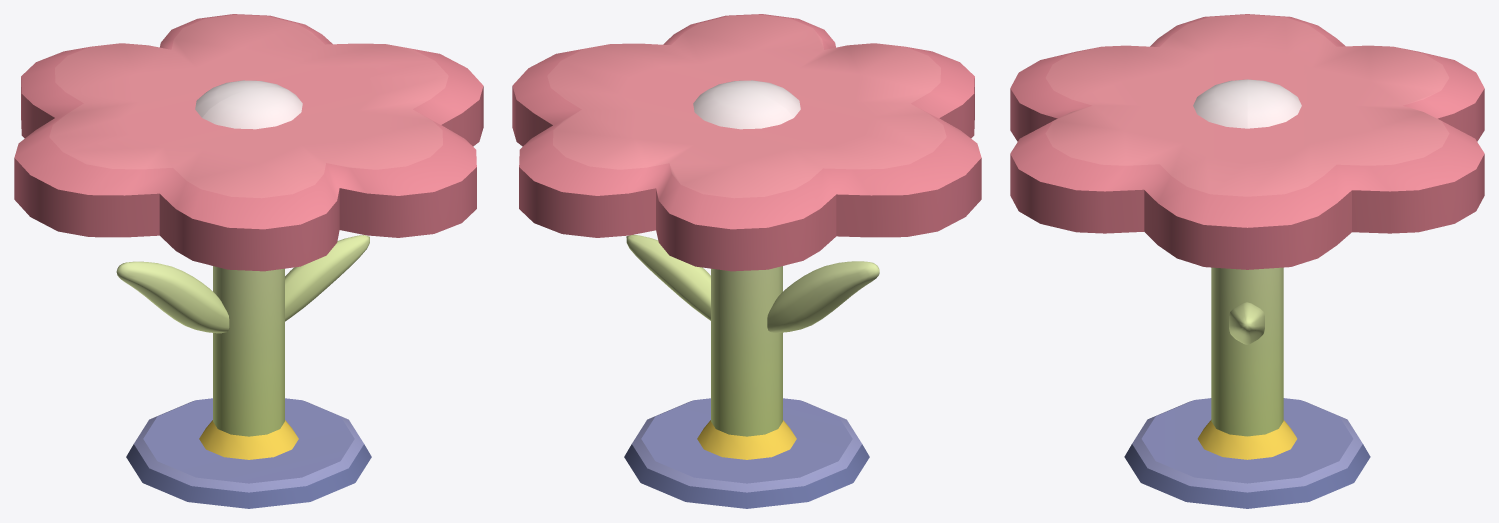
File: Doll_OB_flowertable01.fbx
3 views of the same model, side by side, from view 1: azimuth 30°, elevation 25°; view 2: azimuth 150°, elevation 25°; view 3: azimuth 270°, elevation 25° (orthographic).
Parts seen in each view (by area): view 1: Doll_OB_flowertable01; view 2: Doll_OB_flowertable01; view 3: Doll_OB_flowertable01.
Part boxes in pixels (x1=…): Doll_OB_flowertable01: x1=14, y1=14, x2=483, y2=508; Doll_OB_flowertable01: x1=512, y1=14, x2=981, y2=508; Doll_OB_flowertable01: x1=1010, y1=14, x2=1484, y2=508.
Size of the model in its own units: 88.89 by 71.43 by 83.33.
1 material, 1 textured.
